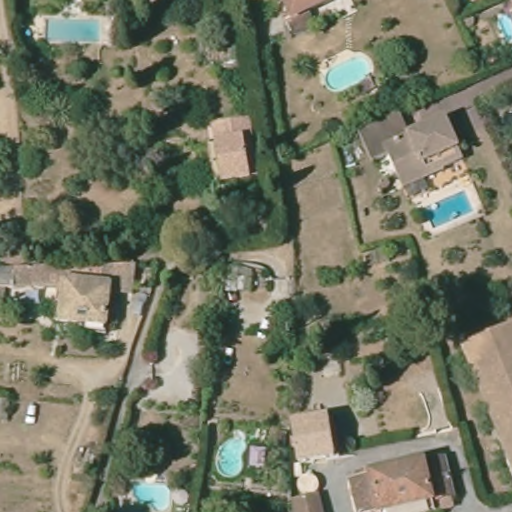pool: (36, 10, 109, 53), (419, 189, 480, 229), (320, 52, 374, 93), (213, 427, 249, 479), (125, 479, 173, 508), (493, 9, 512, 47)
